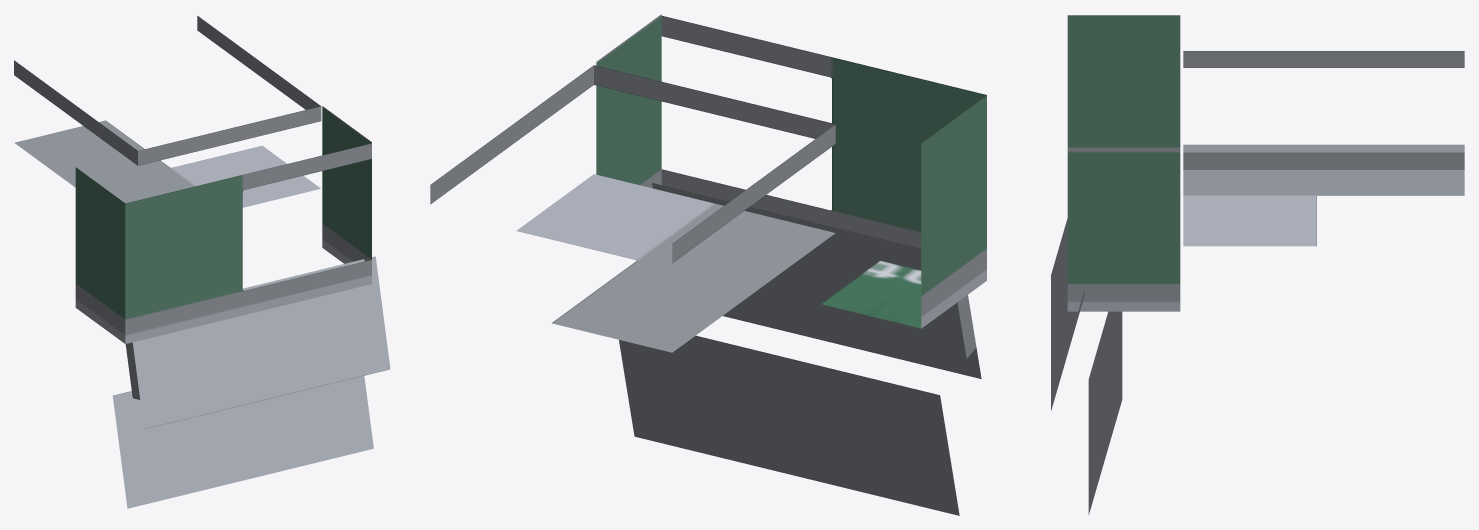
Rendered from section-1.obj.
The picture shows the model from 3 angles, left to right: view 1: azimuth 30°, elevation 25°; view 2: azimuth 150°, elevation 25°; view 3: azimuth 270°, elevation 25°; orthographic projection. The views are drawn at different scales.
Size of the model in its own units: 0.6846 by 0.8024 by 0.8901.
